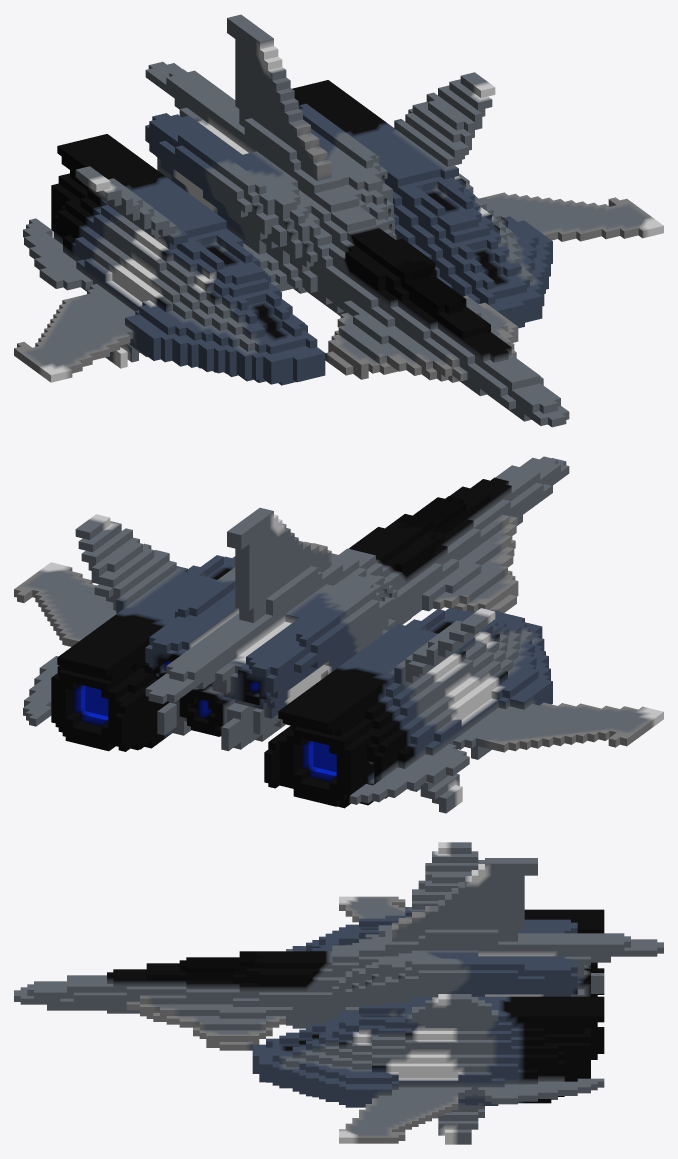
The model's file is spaceship6.obj.
3 views of the same model, one above another, from view 1: azimuth 30°, elevation 25°; view 2: azimuth 150°, elevation 25°; view 3: azimuth 270°, elevation 25° (orthographic). The views are drawn at different scales.
Size of the model in its own units: 8.6 by 3.6 by 9.8.
